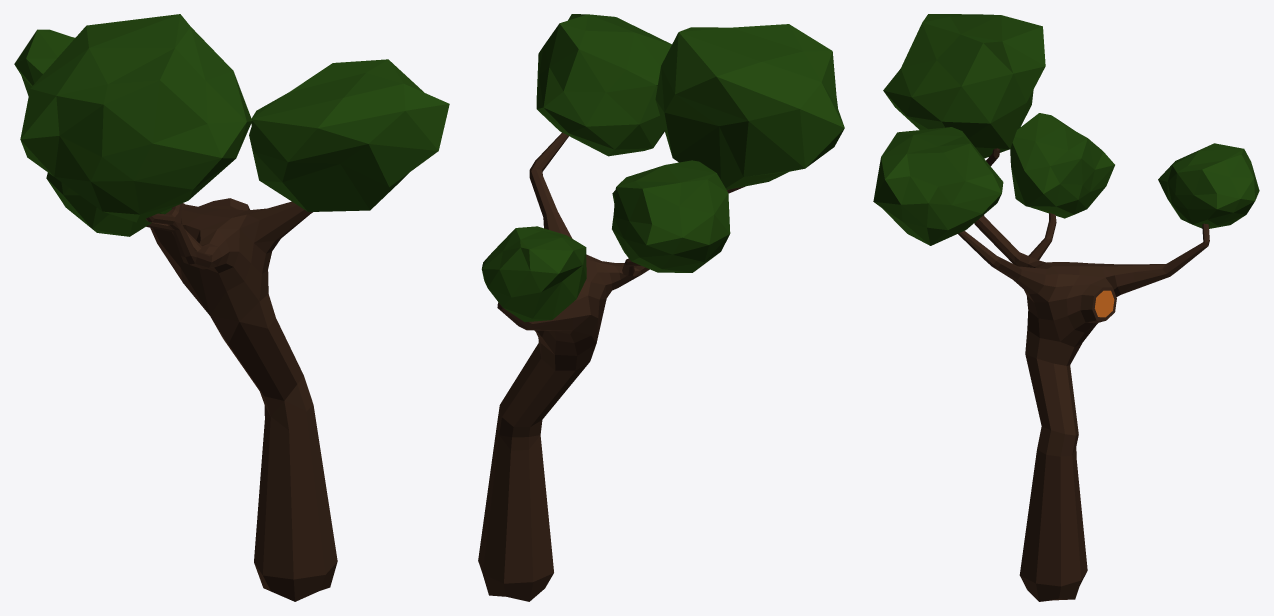
The model's file is Tree1.222.obj.
3 views of the same model, side by side, from view 1: azimuth 30°, elevation 25°; view 2: azimuth 150°, elevation 25°; view 3: azimuth 270°, elevation 25° (orthographic). The views are drawn at different scales.
Parts seen in each view (by area): view 1: Tree1.2_Icosphere.005; view 2: Tree1.2_Icosphere.005; view 3: Tree1.2_Icosphere.005.
Part boxes in pixels (x1,y1,x2,y2): Tree1.2_Icosphere.005: (14, 14, 449, 601); Tree1.2_Icosphere.005: (478, 14, 844, 601); Tree1.2_Icosphere.005: (873, 14, 1259, 601).
Bounding box in the file's own units: 2.67 × 4.36 × 3.04.
